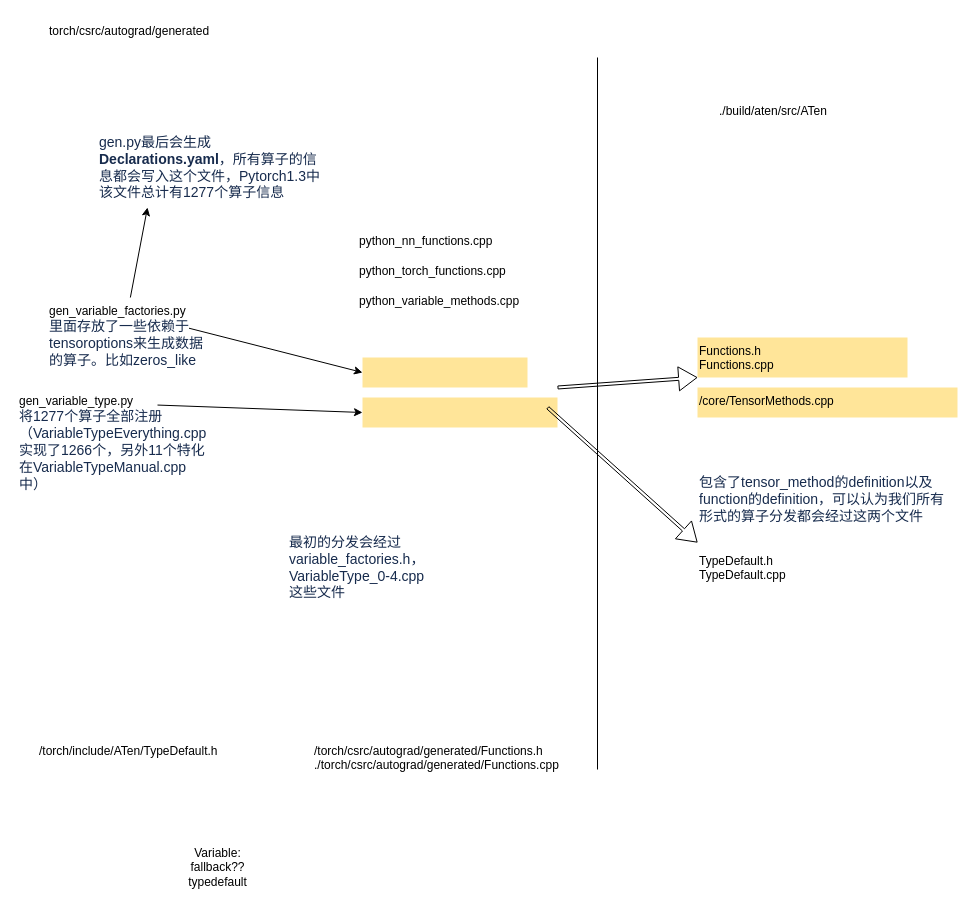
The diagram is 974 pixels wide and 909 high, and some of its shapes have lost their labels. Each missing label, with the box of its shape:
Variable_factories.h: (362, 357, 527, 387)
VariableTypeEverything.cpp: (362, 397, 557, 427)
